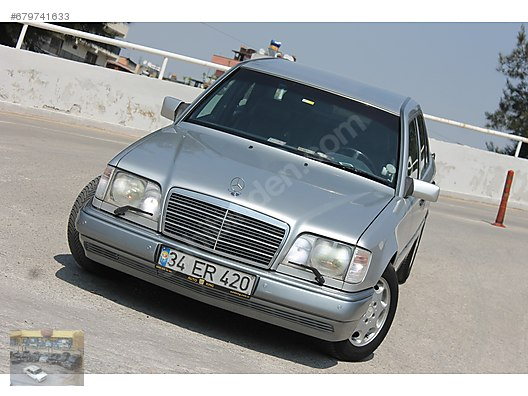mercedes: (64, 55, 440, 364)
